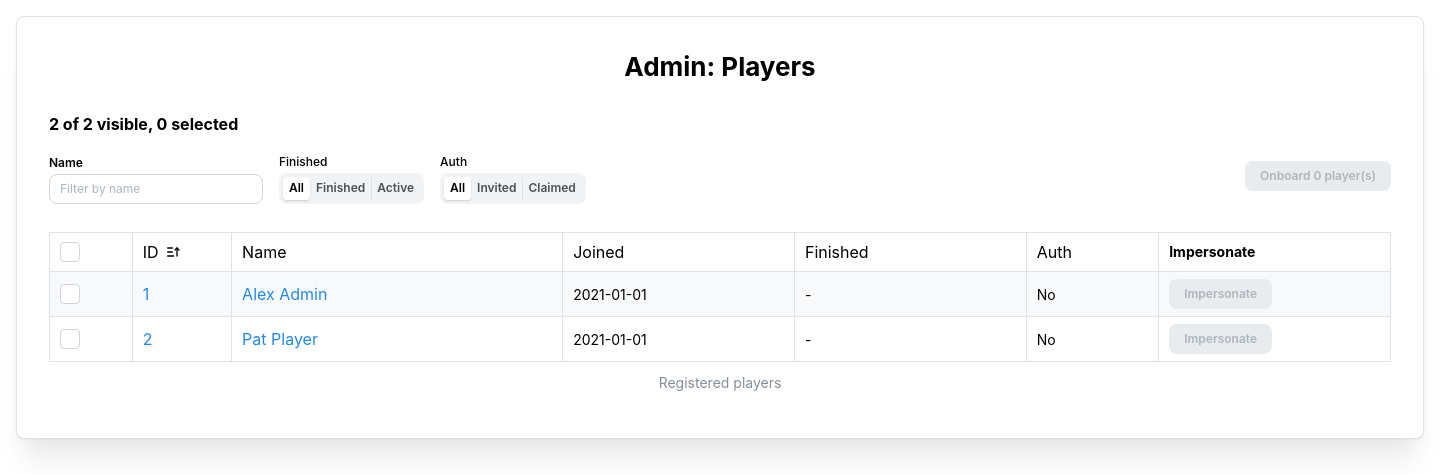
Test: AdminPlayerList › select all › select-all only covers the filtered subset
Type "Pat" into the field with placeholder "Filter by name" at coordinates (156, 189), box [49,174,263,204]
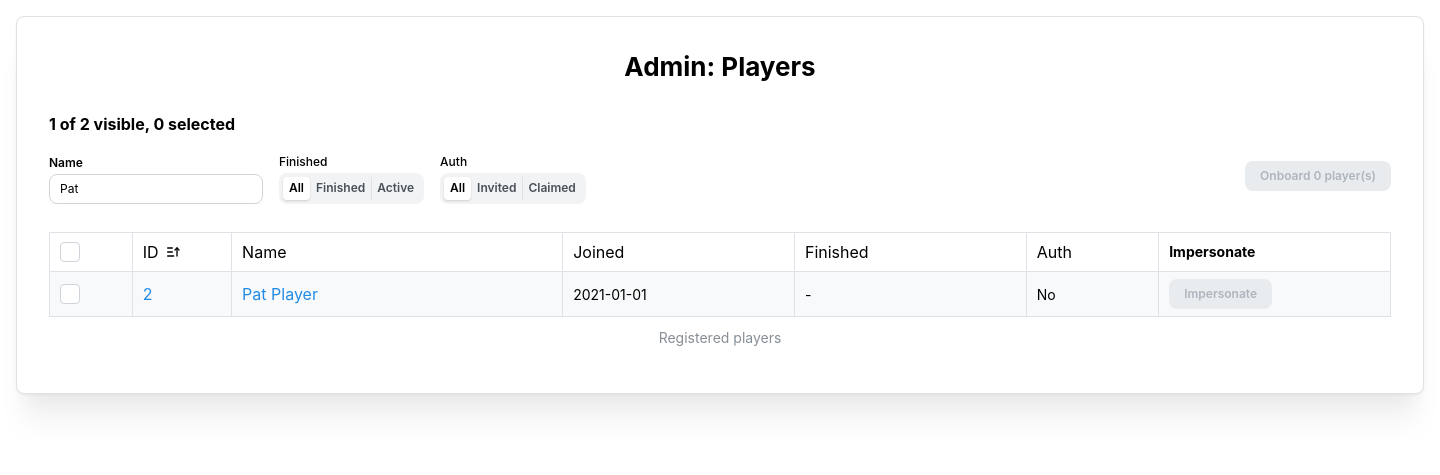
Click the checkbox named "Select all players" at coordinates (70, 252), box [60,242,80,262]
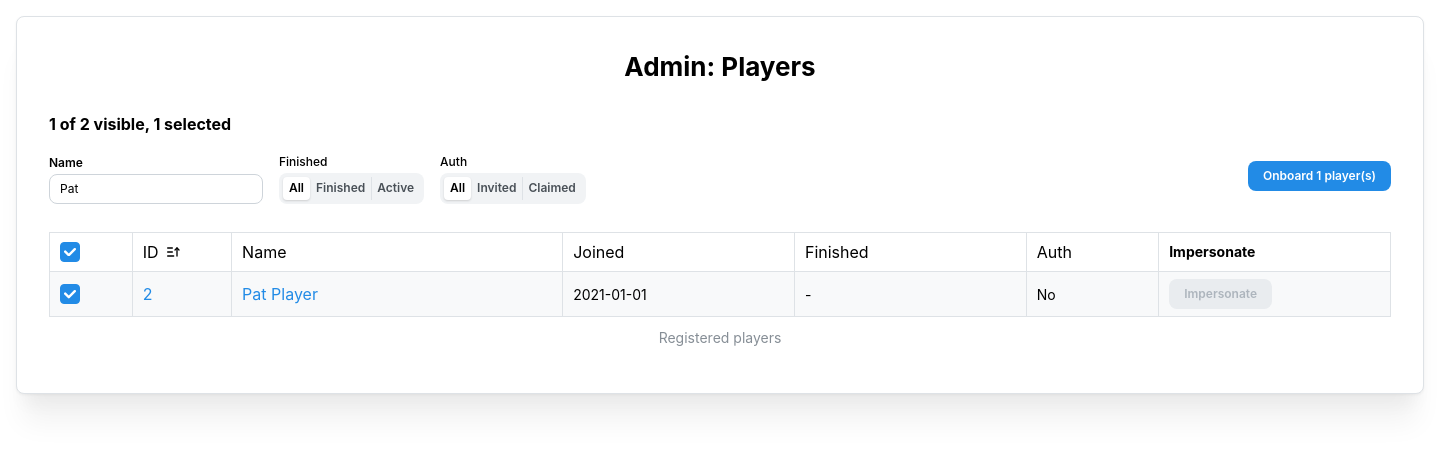
Expected: the checkbox named "Select Pat Player" is checked, [60,284,80,304]
